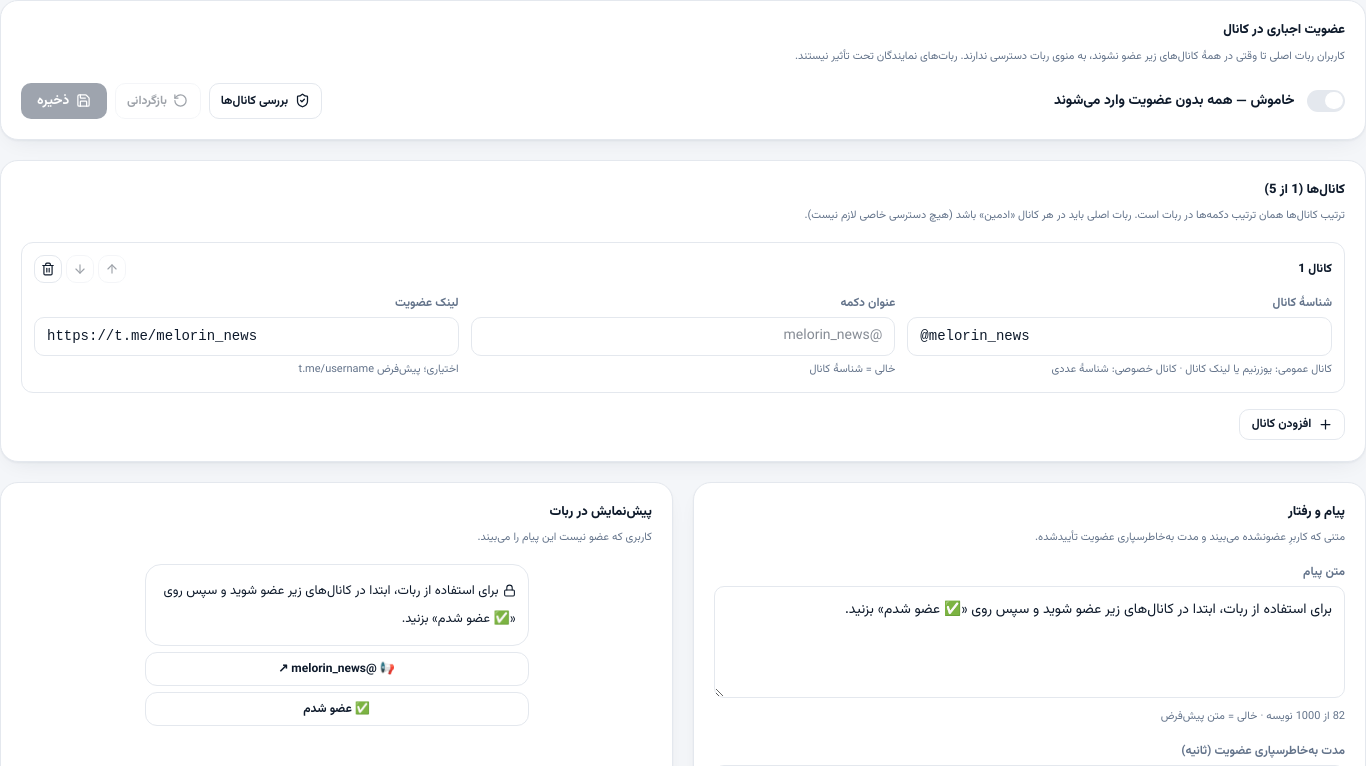
Test case: admin channel join (عضویت اجباری کانال) › asks before saving when the bot is not an admin of a channel, and shows the reason
The image size is (1366, 766).
Later steps or results of the test are not shown.
Expected: the heading "عضویت اجباری در کانال" is shown, [1223,20,1345,40]
Click the switch named "فعال‌سازی عضویت اجباری". click: {"x": 1326, "y": 101}
box: [1307,90,1345,112]
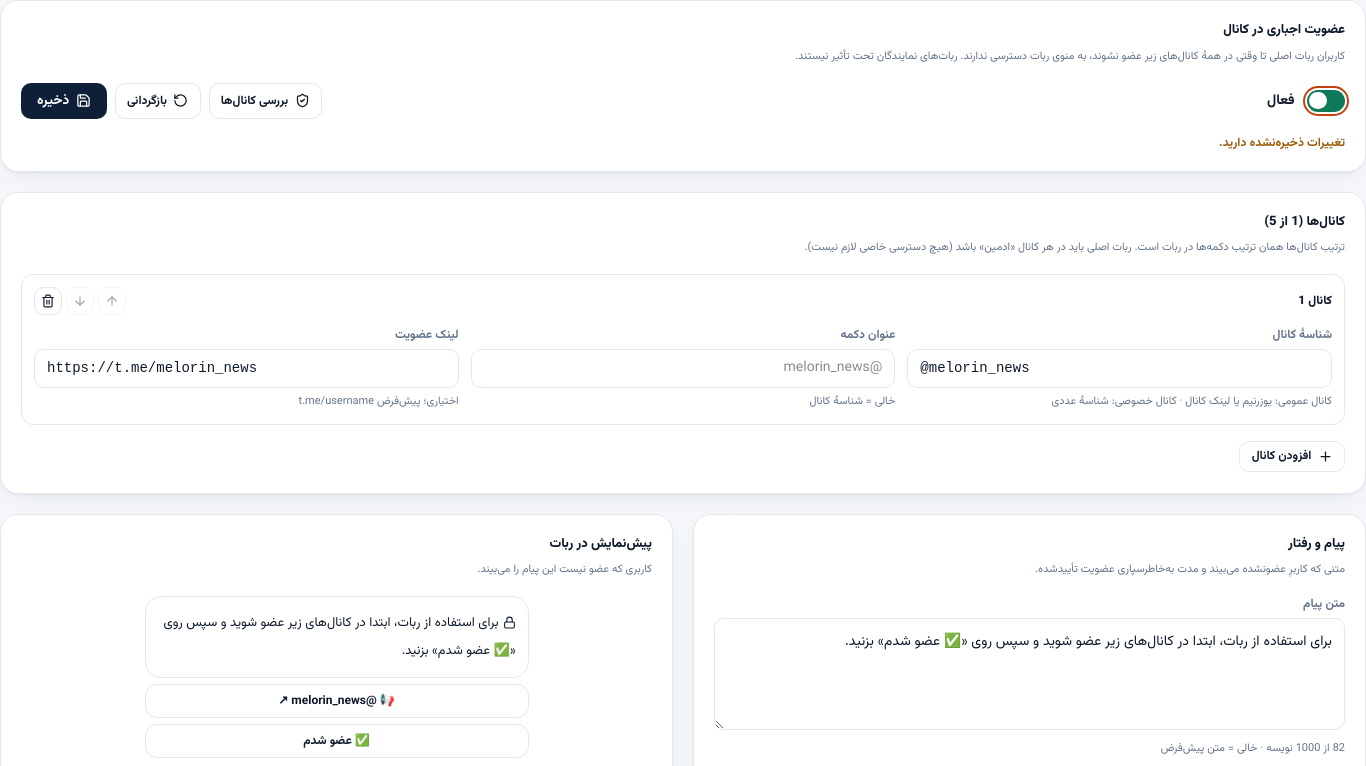
Click the button "ذخیره". click: {"x": 64, "y": 101}
box: [21,82,107,119]
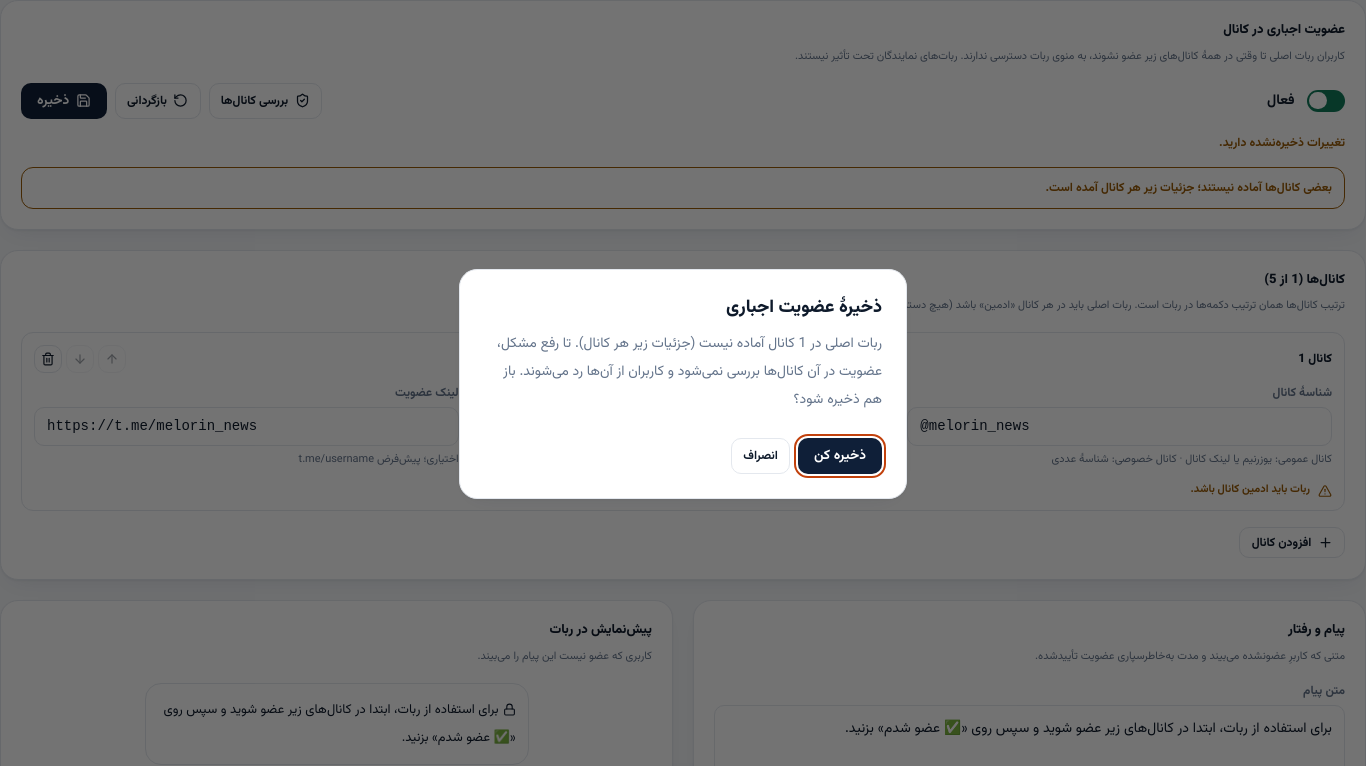
Now the text "در 1 کانال آماده نیست" is shown, box [497,333,882,411]
Now the text "ربات باید ادمین کانال باشد." is shown, box [1190,482,1310,498]
